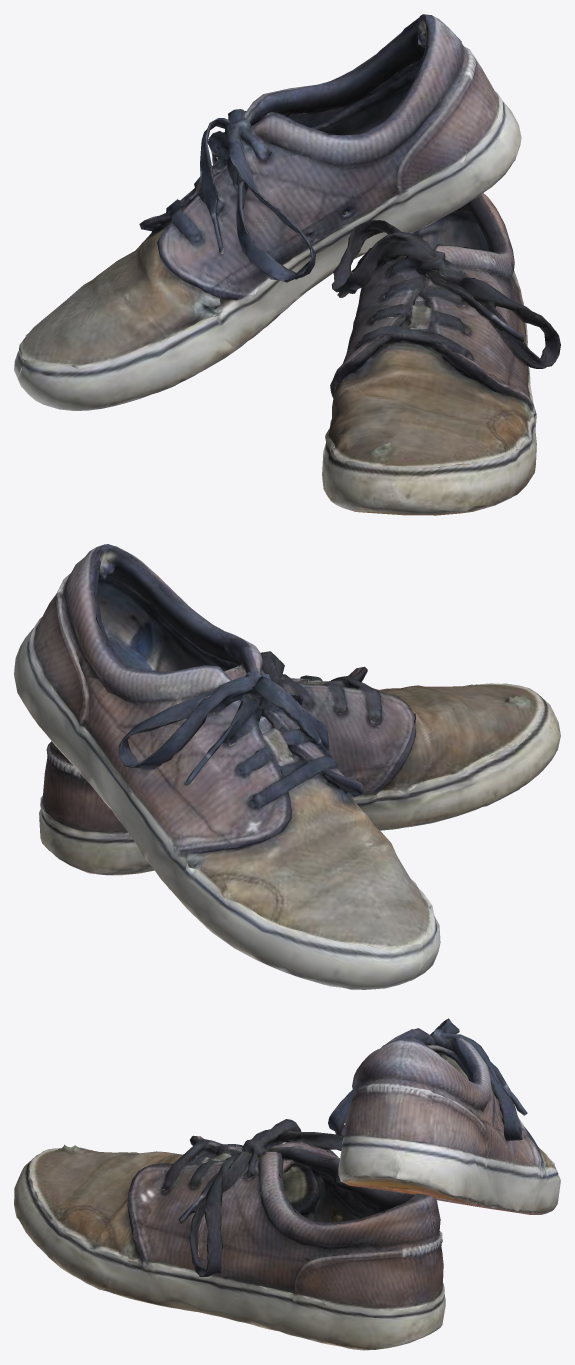
File: worn_out_shoes.glb
3 renders of one model, top to bottom at view 1: azimuth 30°, elevation 25°; view 2: azimuth 150°, elevation 25°; view 3: azimuth 270°, elevation 25°, orthographic. The views are drawn at different scales.
Visible parts, largest first — view 1: bcarx_shoes_Object_2, bcarx_shoes_Object_3; view 2: bcarx_shoes_Object_2, bcarx_shoes_Object_3; view 3: bcarx_shoes_Object_3, bcarx_shoes_Object_2.
Boxes of the visible parts, x1,y1,x2,y2 form: bcarx_shoes_Object_2: (14,14,521,410); bcarx_shoes_Object_3: (322,193,560,515); bcarx_shoes_Object_2: (14,544,440,989); bcarx_shoes_Object_3: (39,651,560,875); bcarx_shoes_Object_3: (14,1119,445,1350); bcarx_shoes_Object_2: (328,1018,560,1214).
Size of the model in its own units: 0.2621 by 0.1826 by 0.3097.
2 materials, 2 textured.
